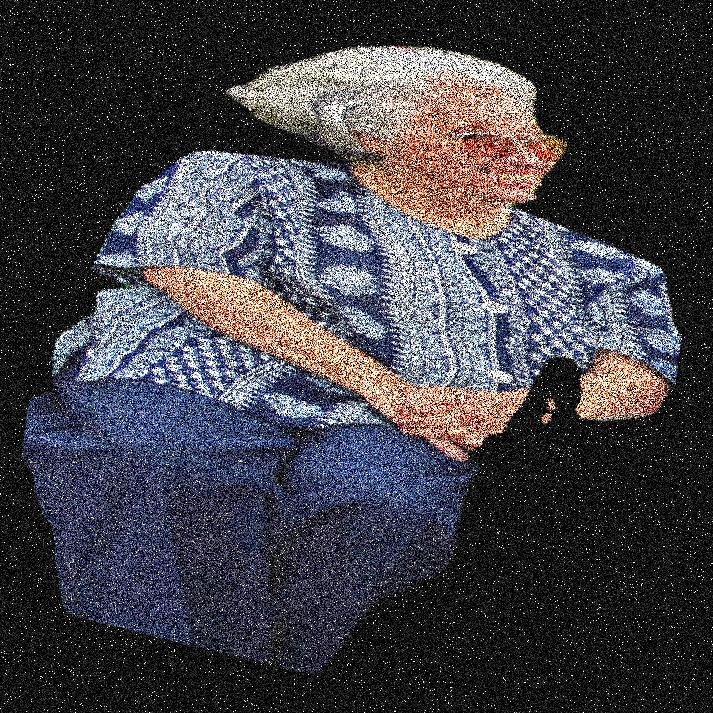Pessoa: (130, 0, 508, 712)
